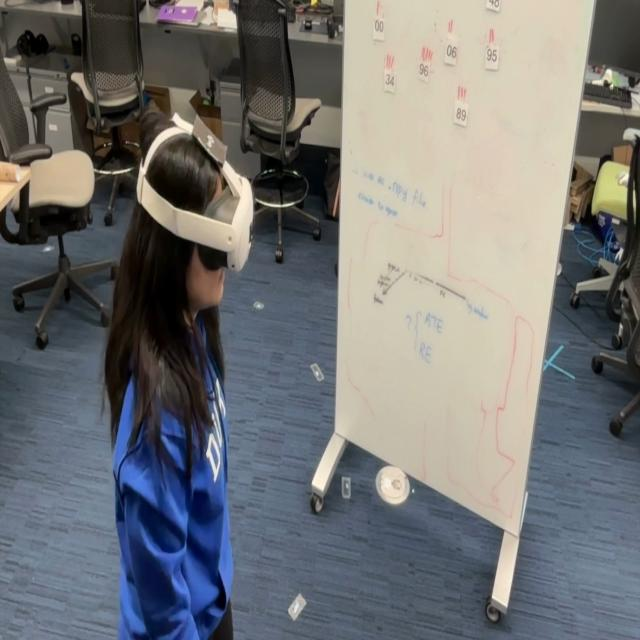Headset: (134, 111, 254, 274)
UnityLogo: (190, 110, 229, 168)
